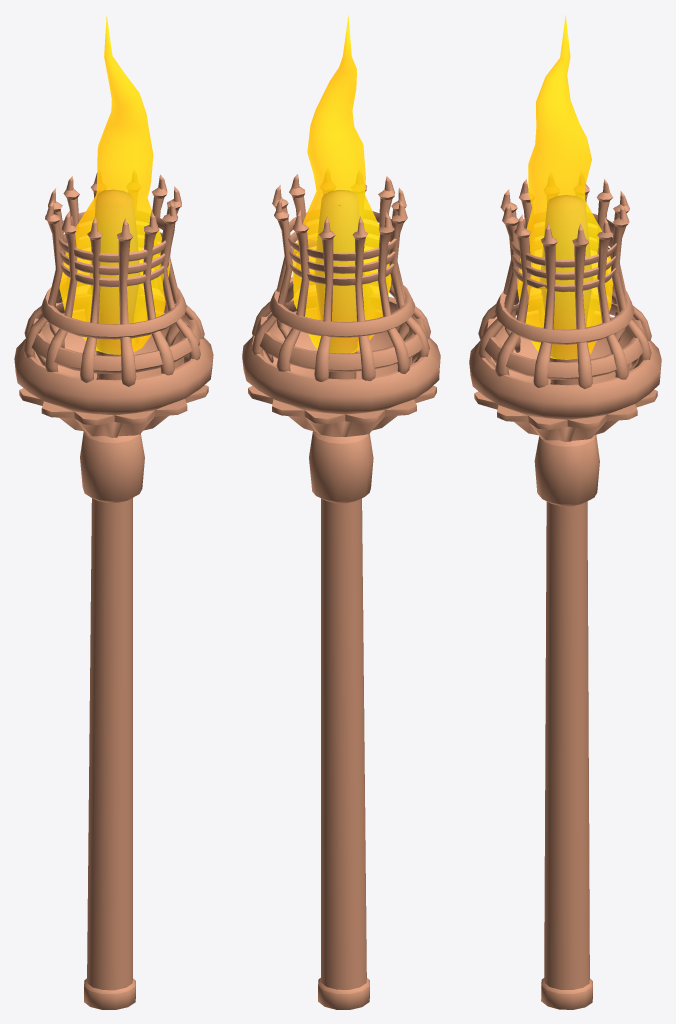
The model's file is antorcha.fbx.
3 views of the same model, side by side, from view 1: azimuth 30°, elevation 25°; view 2: azimuth 150°, elevation 25°; view 3: azimuth 270°, elevation 25° (orthographic).
Parts seen in each view (by area): view 1: antorcha; view 2: antorcha; view 3: antorcha.
Part boxes in pixels (<box>): antorcha: <box>14,15,213,1009</box>; antorcha: <box>242,15,440,1009</box>; antorcha: <box>469,15,661,1009</box>.
Bounding box in the file's own units: 17.91 × 97.05 × 17.22.
